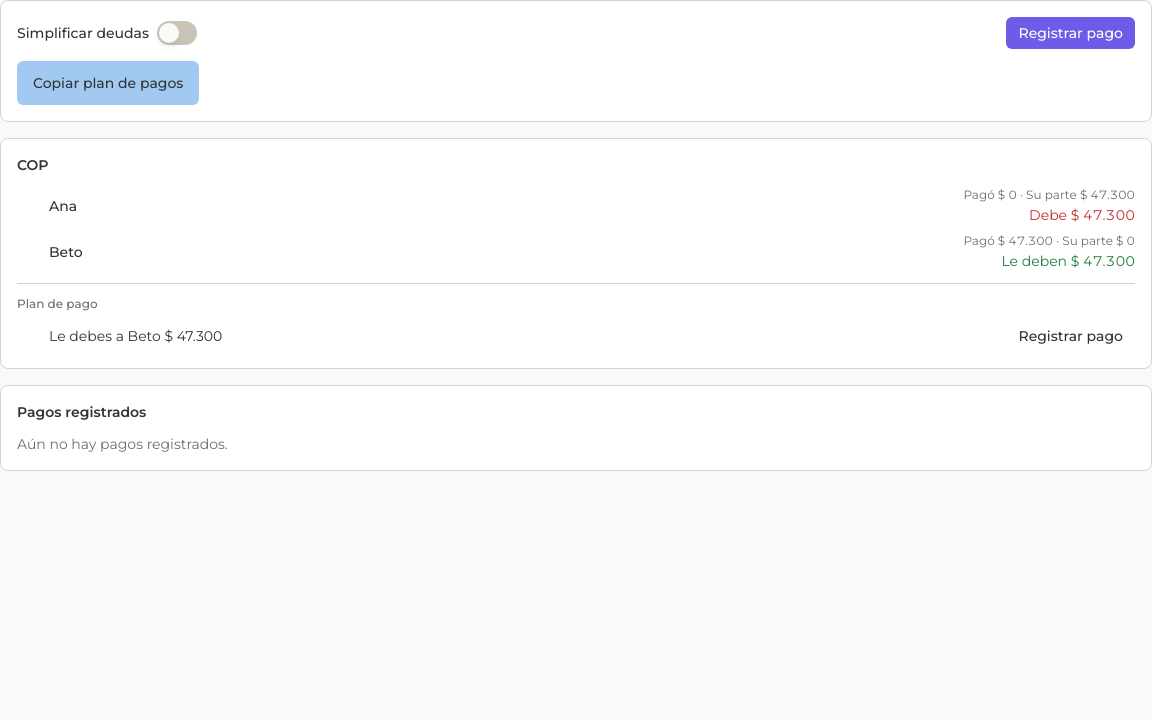
Test case: SettleUpDialog › prefills the amount and currency from a plan edge
Click the button "Registrar pago" in the row of "Le debes a Beto $ 47.300".
click(1071, 336)  # box [1006,320,1135,352]
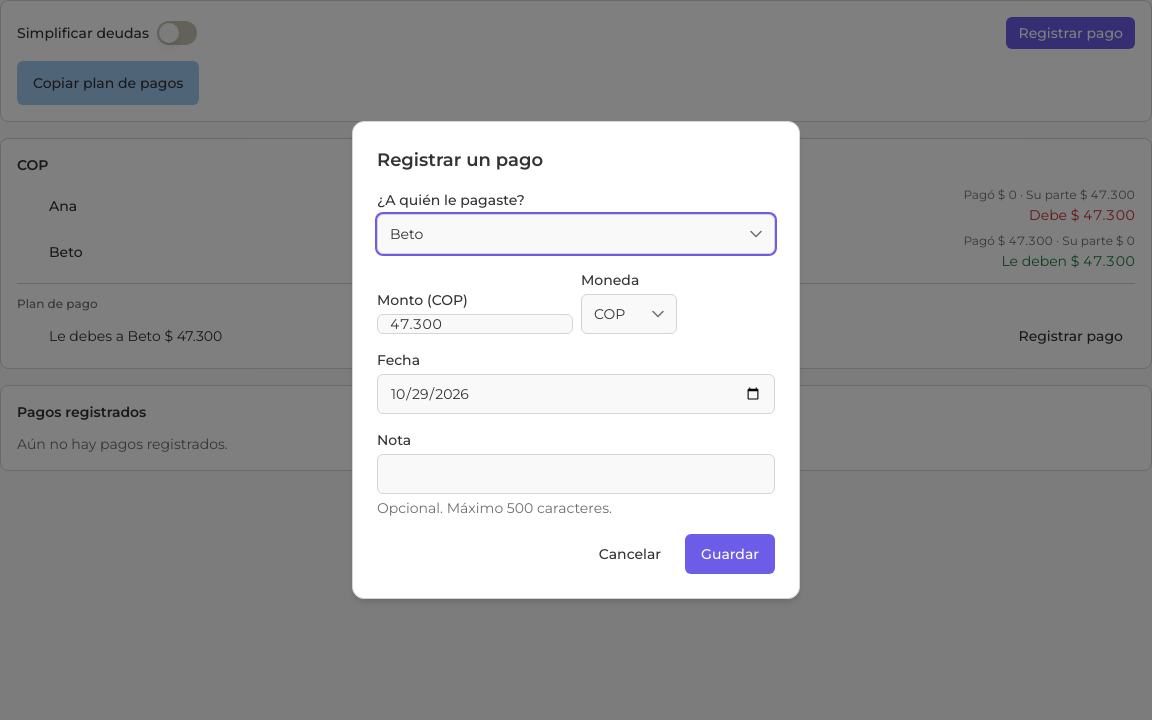
Check: the field labelled "Monto (COP)" holds "47.300", box [377,314,573,334]
